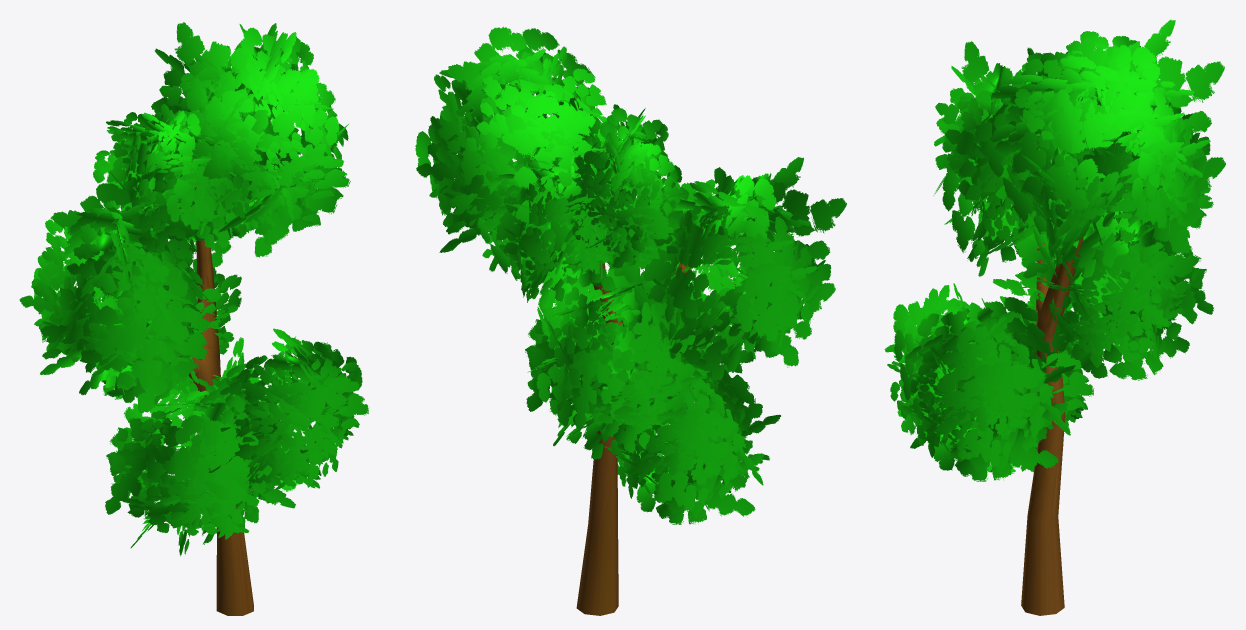
File: SM_Tree1_03.fbx
The picture shows the model from 3 angles, left to right: view 1: azimuth 30°, elevation 25°; view 2: azimuth 150°, elevation 25°; view 3: azimuth 270°, elevation 25°; orthographic projection. The views are drawn at different scales.
Parts seen in each view (by area): view 1: SM_Tree01_03_LOD0; view 2: SM_Tree01_03_LOD0; view 3: SM_Tree01_03_LOD0.
Part boxes in pixels (left/top/right/bottom): SM_Tree01_03_LOD0: left=19, top=22, right=369, bottom=615; SM_Tree01_03_LOD0: left=415, top=26, right=846, bottom=615; SM_Tree01_03_LOD0: left=884, top=19, right=1225, bottom=615.
Size of what is drawn, in the model's own units: 1176 by 1731 by 919.
